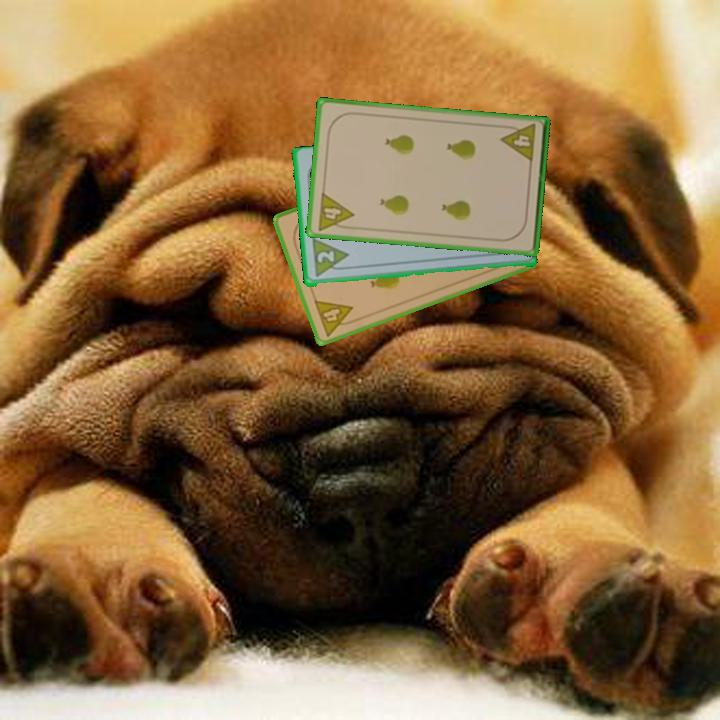2p: (313, 248, 337, 267)
4p: (310, 296, 360, 339), (314, 189, 356, 233), (498, 120, 539, 165)
